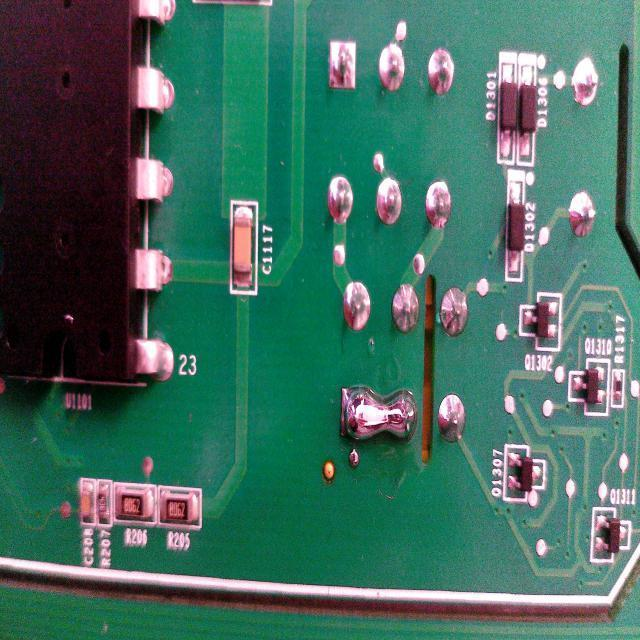Soldering shorted: (337, 382, 419, 448)
